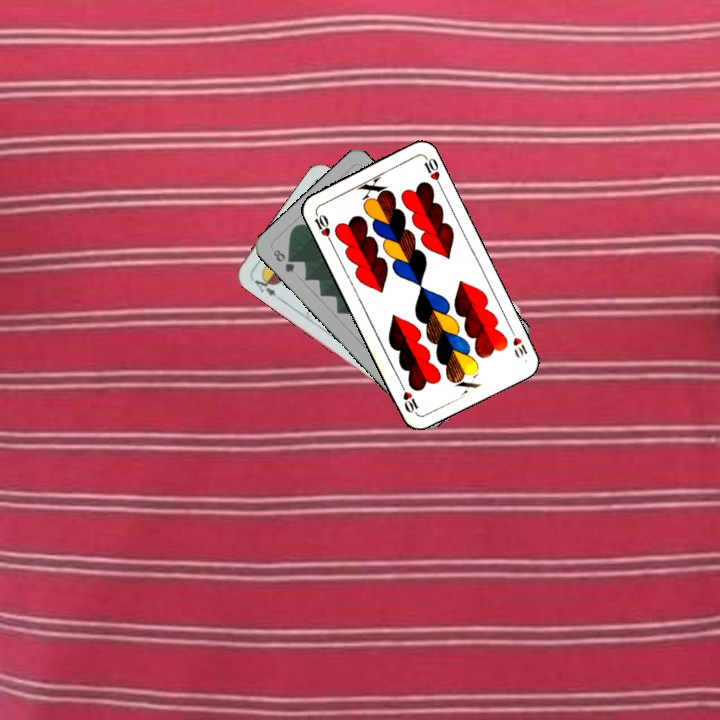EA: (248, 272, 283, 301)
G8: (269, 245, 297, 276)
H10: (310, 208, 335, 246), (505, 323, 530, 361)
